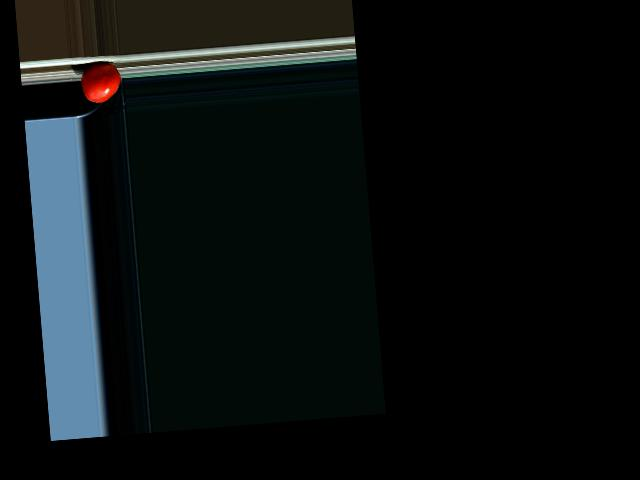tomato: (79, 62, 122, 104)
